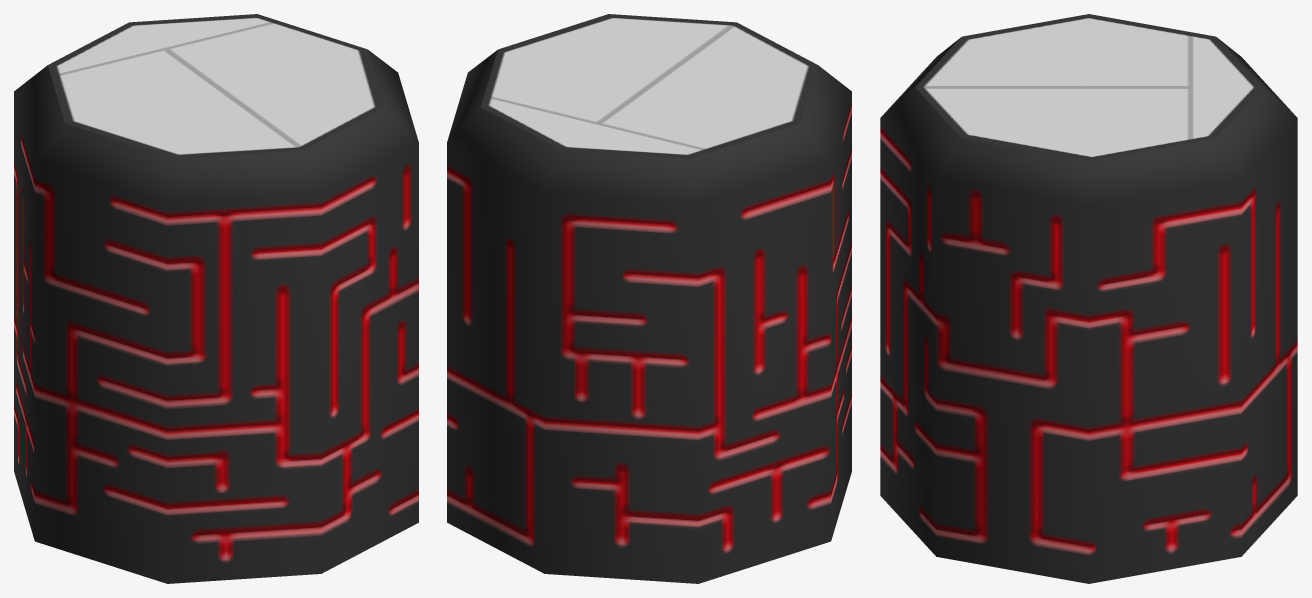
The model's file is CapacitorCylinders1.fbx.
3 views of the same model, side by side, from view 1: azimuth 30°, elevation 25°; view 2: azimuth 150°, elevation 25°; view 3: azimuth 270°, elevation 25° (orthographic).
Parts seen in each view (by area): view 1: CapacitorCylinders1; view 2: CapacitorCylinders1; view 3: CapacitorCylinders1.
Part boxes in pixels (x1=…): CapacitorCylinders1: x1=14, y1=14, x2=418, y2=583; CapacitorCylinders1: x1=447, y1=14, x2=851, y2=583; CapacitorCylinders1: x1=880, y1=14, x2=1297, y2=583.
Bounding box in the file's own units: 1 × 1.08 × 1.
